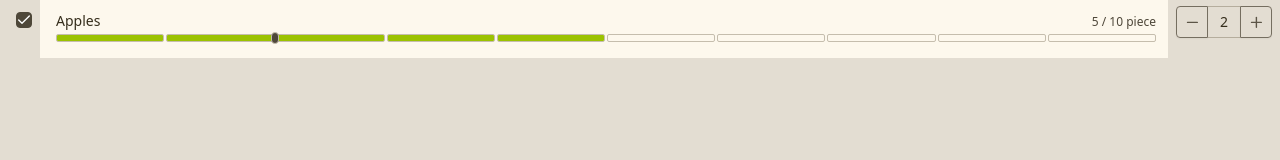
ItemCard - loading states › shows spinner on shopping overlay minus button (Decrease quantity) while isPending is true
Click the button named "Decrease quantity of Apples" at [1192, 22], box [1176, 6, 1208, 38]
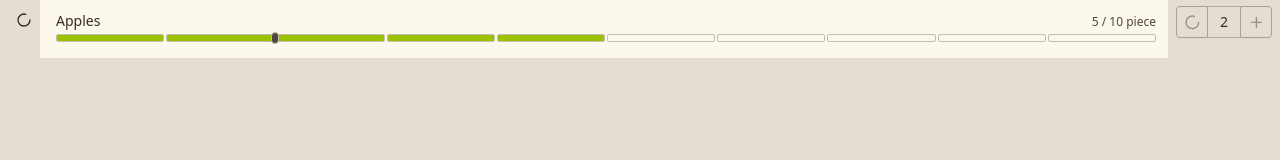
expect the 2nd icon with class "animate-spin" is shown: met, box [1184, 14, 1200, 30]
